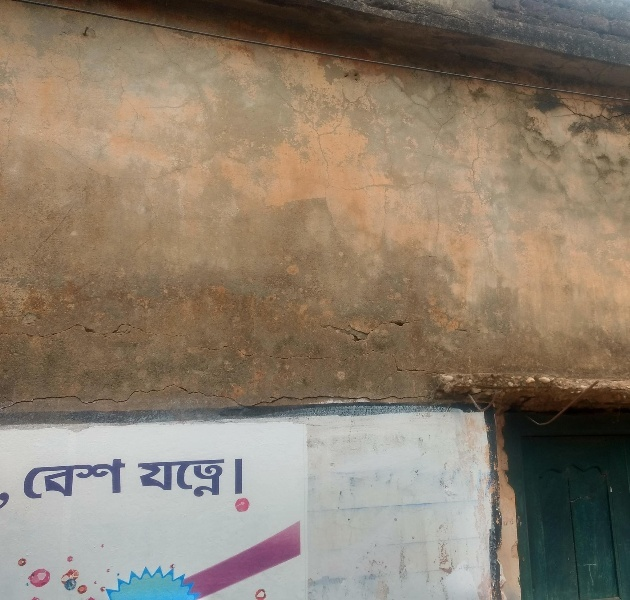text: (33, 456, 48, 508), (49, 456, 64, 508), (65, 456, 80, 508), (81, 456, 96, 508), (97, 456, 112, 508), (113, 456, 128, 508), (145, 455, 160, 500), (161, 455, 176, 500), (177, 455, 192, 500), (193, 455, 208, 500), (209, 455, 224, 500), (225, 455, 240, 500), (1, 488, 16, 515), (137, 455, 144, 500), (26, 456, 32, 508), (241, 455, 244, 500)
